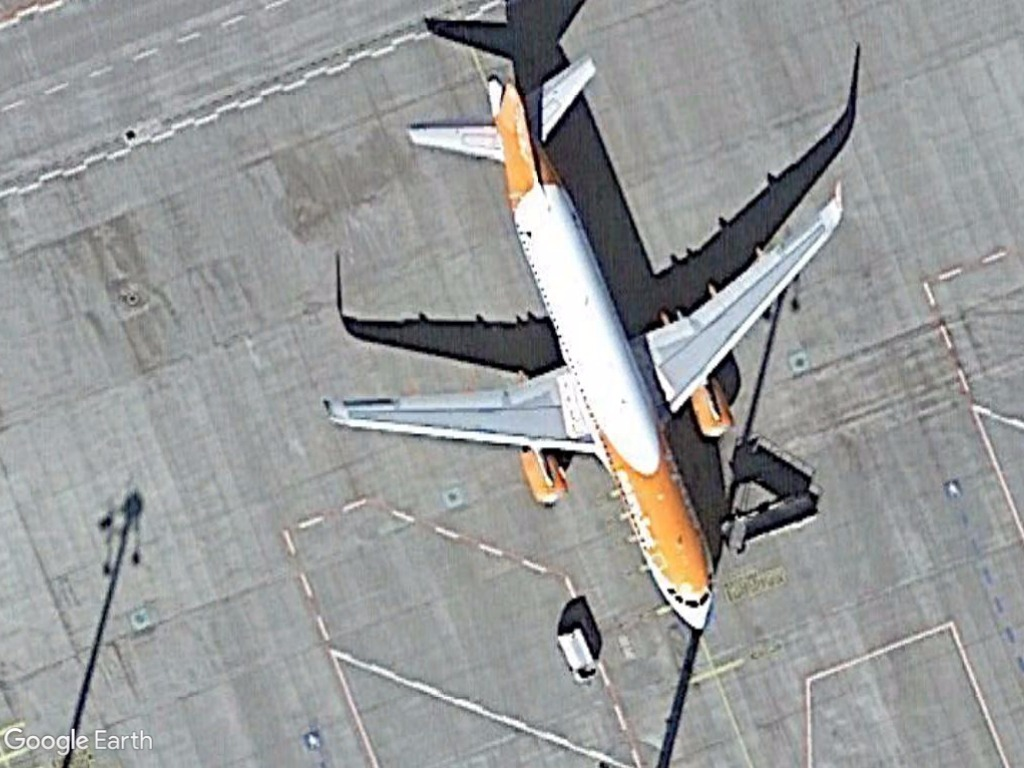airliner: (308, 42, 855, 641)
stairtruck: (717, 485, 824, 563)
van: (552, 619, 605, 690)
